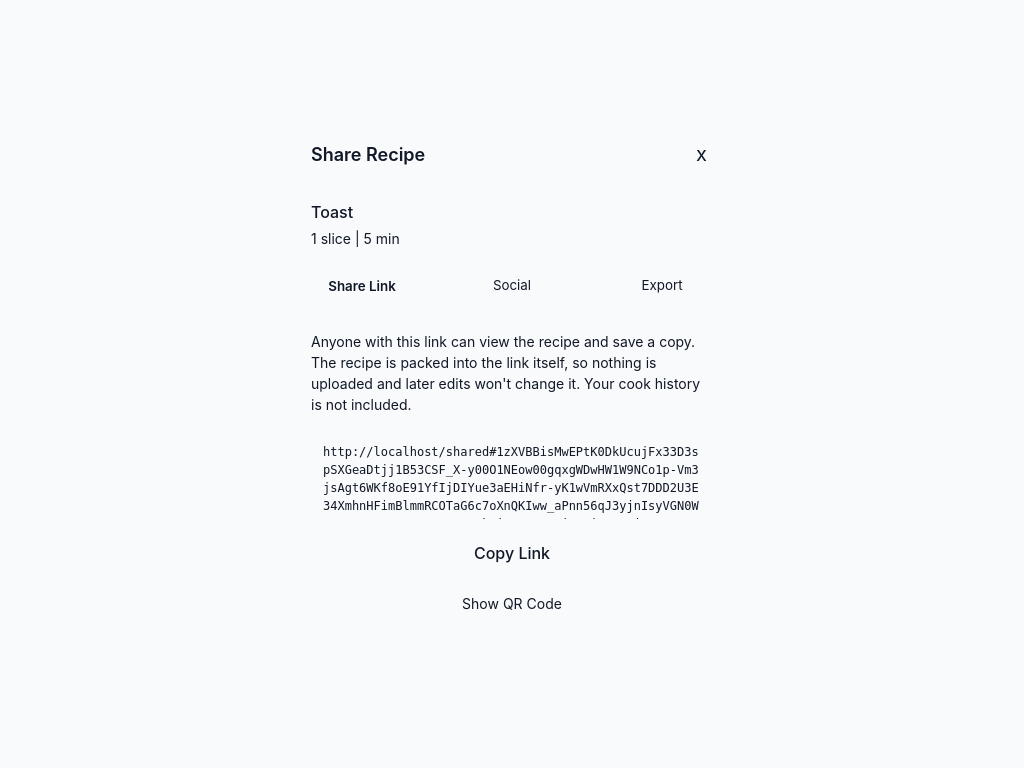
Test: ShareModal › tells the user when copying fails
The image size is (1024, 768).
Click the button "Copy Link": (512, 552) x1=311 y1=534 x2=713 y2=570
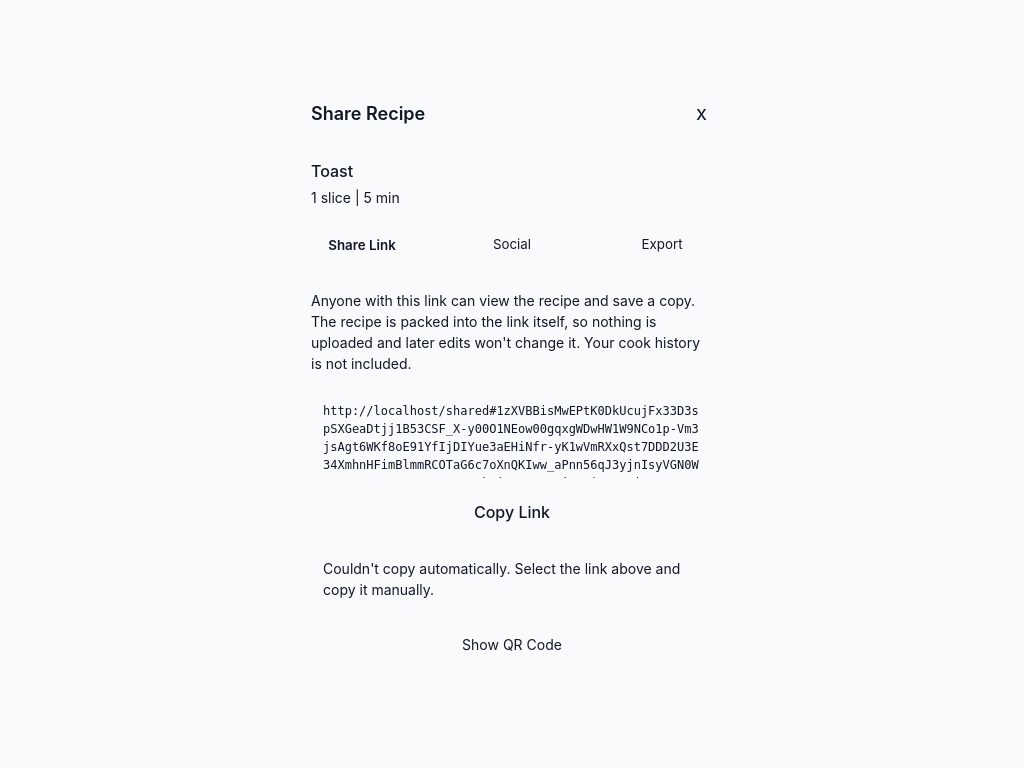
Expected: the message shows "Couldn't copy automatically", x1=323 y1=560 x2=680 y2=598
